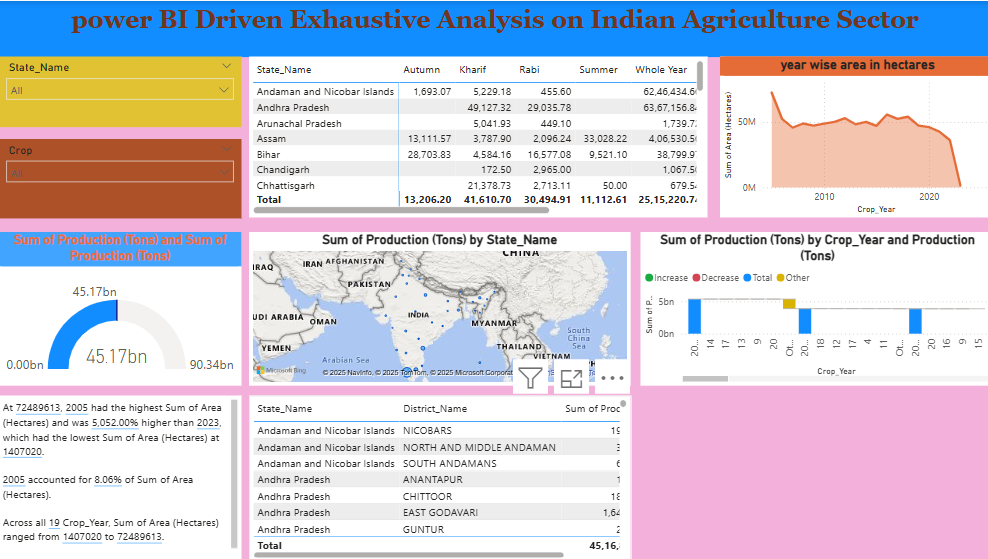

Layout of this report page (visuals, bound fields, positions):
{"tool":"powerbi","page":{"name":"week_3","canvas":[1280,720],"ordinal":2},"visuals":[{"type":"textbox","box":[0,0,1279.4,71.8],"z":0},{"type":"areaChart","title":"year wise area in hectares","fields":{"Category":["Crops_Data.Crop_Year"],"Y":["Sum(Crops_Data.Area (Hectares))"]},"box":[927.3,71.6,353.1,206.8],"z":1000},{"type":"slicer","fields":{"Values":["Crops_Data.State_Name"]},"box":[1.9,71.8,311.8,90.7],"z":2000},{"type":"slicer","fields":{"Values":["Crops_Data.Crop"]},"box":[1.6,176.6,311.8,101.8],"z":3000},{"type":"pivotTable","fields":{"Rows":["Crops_Data.State_Name"],"Columns":["Crops_Data.Season"],"Values":["Avg(Crops_Data.Production (Tons))"]},"box":[324.5,71.6,588.5,206.8],"z":4000},{"type":"gauge","fields":{"Y":["Sum(Crops_Data.Production (Tons))"],"TargetValue":["Sum(Crops_Data.Production (Tons))"]},"box":[1.6,295.9,311.8,197.2],"z":5000},{"type":"map","fields":{"Category":["Crops_Data.State_Name"],"Size":["Sum(Crops_Data.Production (Tons))"]},"box":[324.5,295.9,489.9,197.2],"z":6000},{"type":"textbox","box":[1.6,505.8,311.8,214.7],"z":7000},{"type":"tableEx","fields":{"Values":["Crops_Data.State_Name","Crops_Data.District_Name","Sum(Crops_Data.Production (Tons))"]},"box":[324.5,505.8,489.9,214.7],"z":8000},{"type":"waterfallChart","fields":{"Category":["Crops_Data.Crop_Year"],"Breakdown":["Crops_Data.Production (Tons)"],"Y":["Sum(Crops_Data.Production (Tons))"]},"box":[825.5,295.9,454.9,424.7],"z":9000}]}

Visuals, with their boxes in screenshot pixels (x1, y1, x2, y2), scaled from the page's 1280x720 canvas onto the 988x559 screenshot:
textbox: (0, 0, 987, 56)
"year wise area in hectares" areaChart: (716, 56, 987, 216)
slicer - Crops_Data.State_Name: (1, 56, 242, 126)
slicer - Crops_Data.Crop: (1, 137, 242, 216)
pivotTable - Crops_Data.State_Name x Crops_Data.Season: (250, 56, 705, 216)
gauge - Sum(Crops_Data.Production (Tons)) x Sum(Crops_Data.Production (Tons)): (1, 230, 242, 383)
map - Crops_Data.State_Name x Sum(Crops_Data.Production (Tons)): (250, 230, 629, 383)
textbox: (1, 393, 242, 558)
tableEx - Crops_Data.State_Name x Crops_Data.District_Name: (250, 393, 629, 558)
waterfallChart - Crops_Data.Crop_Year x Crops_Data.Production (Tons): (637, 230, 987, 558)
